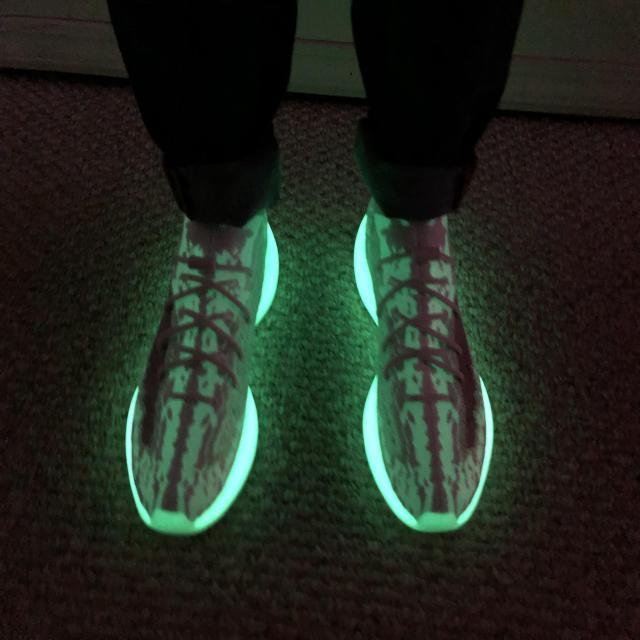shoes: (122, 166, 283, 543), (352, 186, 499, 538)
